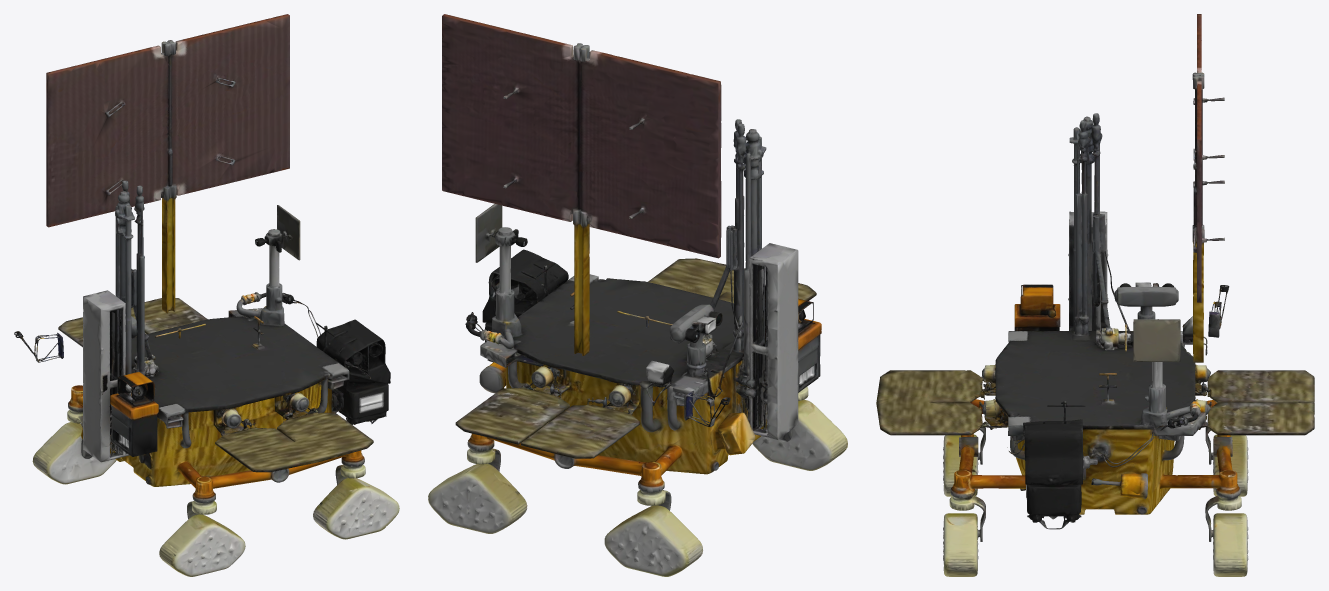
File: lupex.glb
The picture shows the model from 3 angles, left to right: view 1: azimuth 30°, elevation 25°; view 2: azimuth 150°, elevation 25°; view 3: azimuth 270°, elevation 25°; orthographic projection. The views are drawn at different scales.
Size of the model in its own units: 1.33 by 1.9 by 1.66.
1 material, 1 textured.
